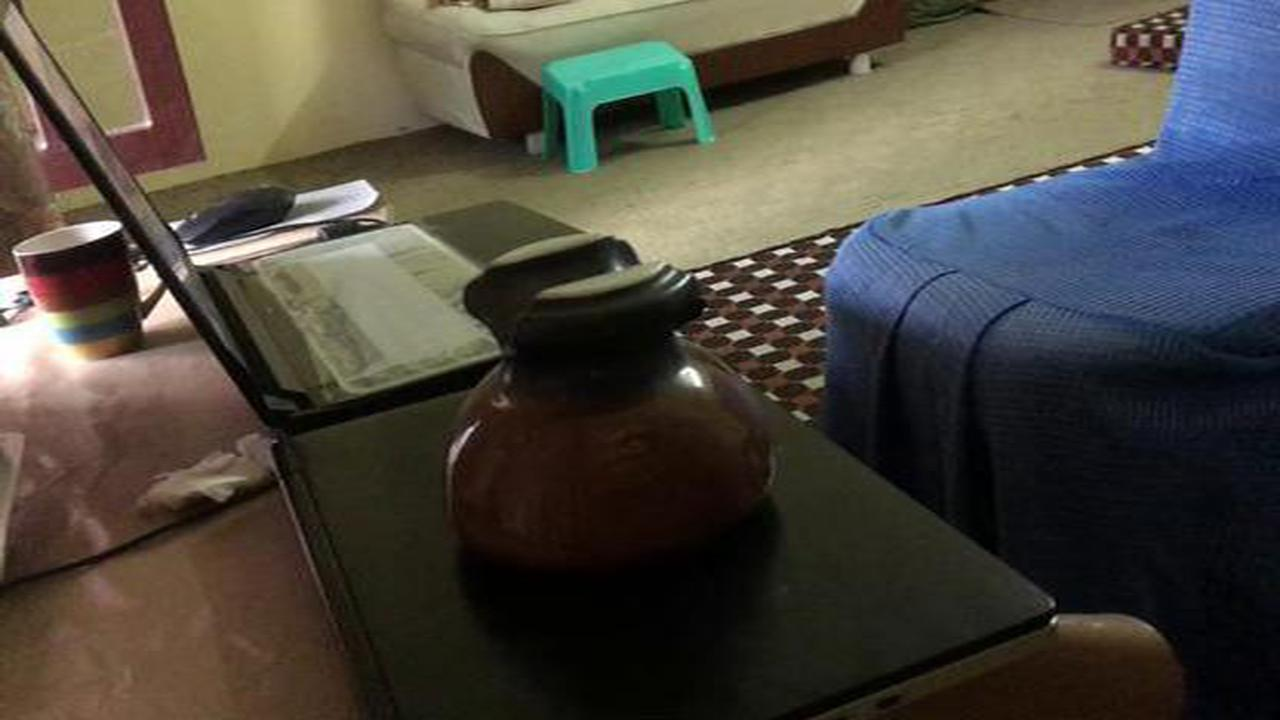insulator_pin: (410, 216, 797, 591)
